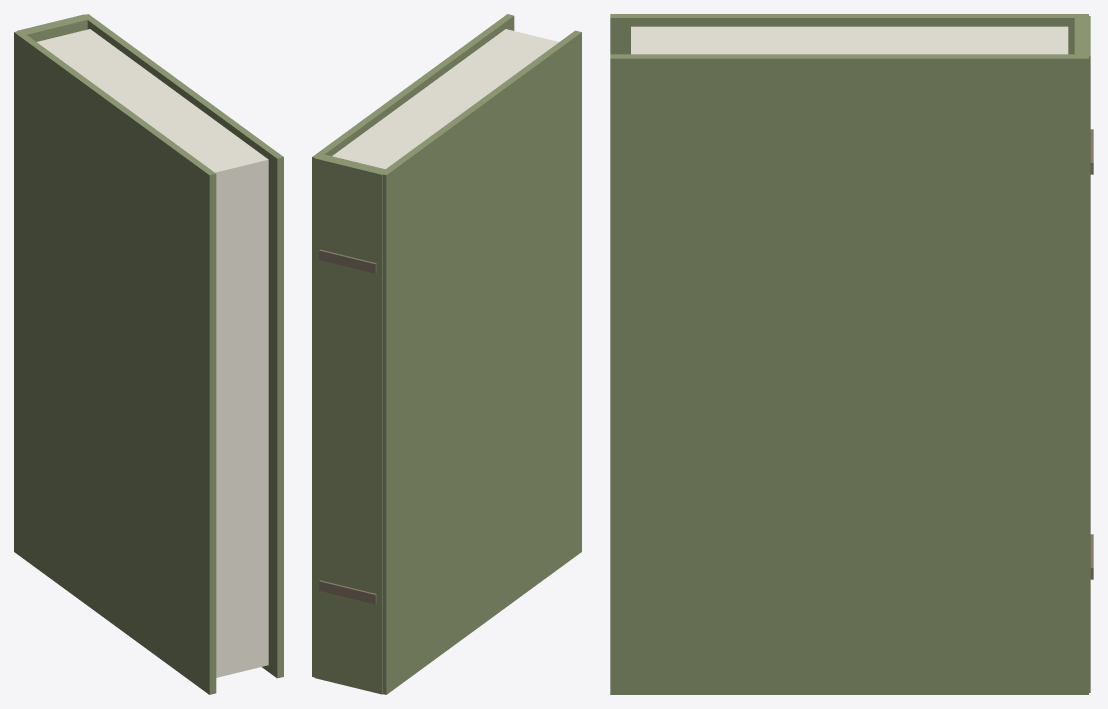
Rendered from book-green.glb.
The picture shows the model from 3 angles, left to right: view 1: azimuth 30°, elevation 25°; view 2: azimuth 150°, elevation 25°; view 3: azimuth 270°, elevation 25°; orthographic projection. The views are drawn at different scales.
Visible parts, largest first — view 1: book-green; view 2: book-green; view 3: book-green.
Boxes of the visible parts, x1=… form: book-green: x1=14, y1=14, x2=283, y2=694; book-green: x1=312, y1=14, x2=581, y2=694; book-green: x1=610, y1=14, x2=1093, y2=694.
Bounding box in the file's own units: 0.033 × 0.22 × 0.1515.
